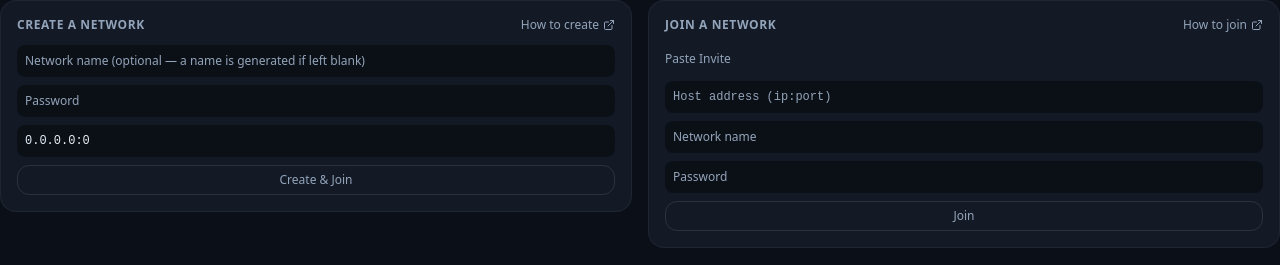
VirtualNetworkPanel — not in any network › disables Join until host address, name, and password are all entered
This screenshot has width=1280, height=265.
Expected: the button with test id "vn-join-btn" is disabled, [665,201,1263,231]
Type "192.168.1.5:7777" into the field with test id "vn-join-host-addr" at (964, 97), box [665,81,1263,113]
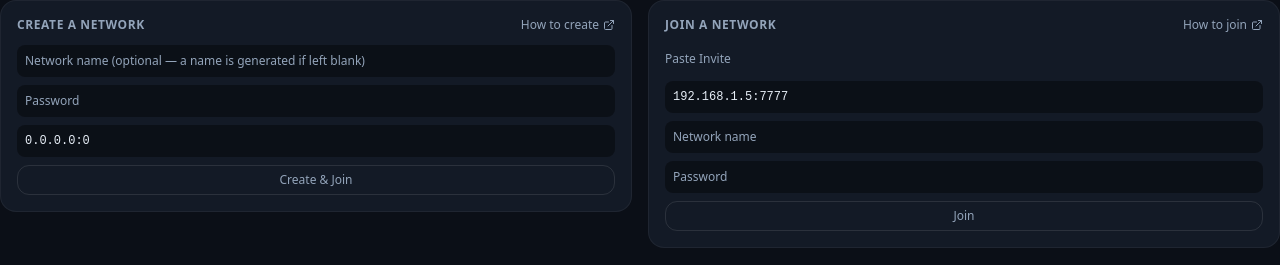
Type "party" into the field with test id "vn-join-name" at (964, 137), box [665,121,1263,153]
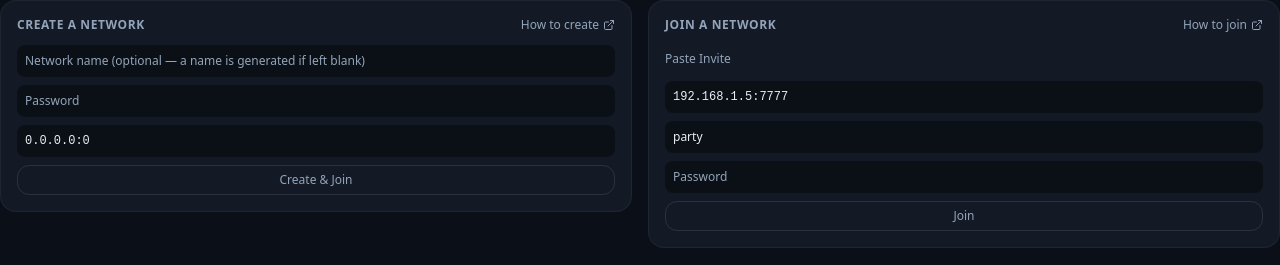
Expected: the button with test id "vn-join-btn" is disabled, [665,201,1263,231]
Type "secret" into the password field with test id "vn-join-password" at (964, 177), box [665,161,1263,193]
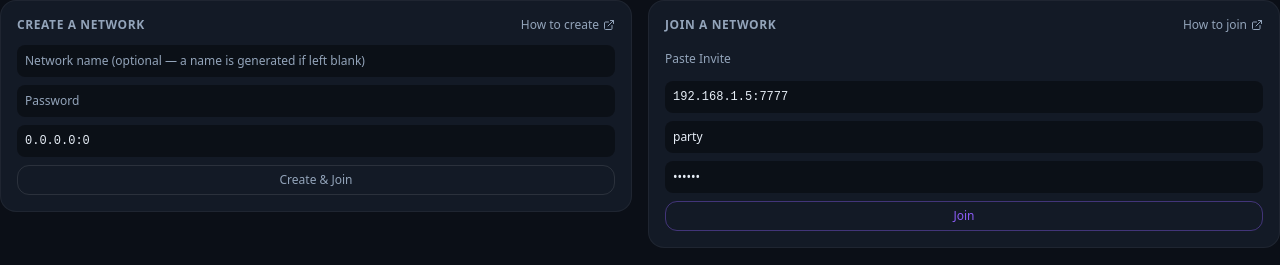
Now the button with test id "vn-join-btn" is enabled, box [665,201,1263,231]
